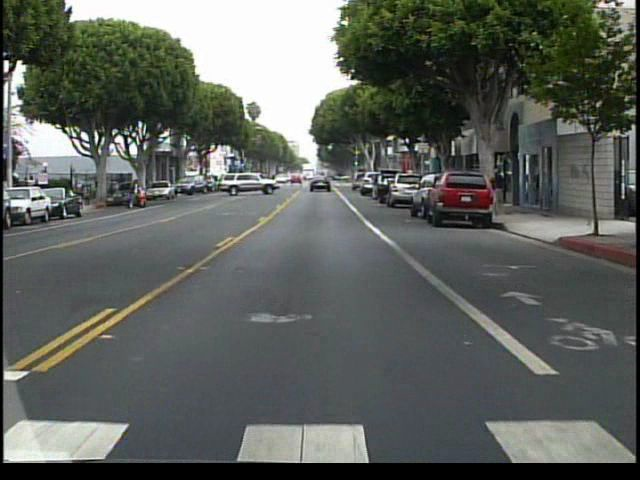person: (489, 166, 510, 216), (130, 178, 149, 210)
